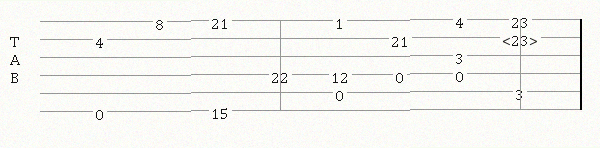0: (95, 103, 108, 117), (335, 85, 348, 99), (395, 67, 408, 81), (455, 67, 468, 81)
1: (335, 13, 348, 27)
12: (331, 67, 353, 81)
15: (211, 103, 233, 118)
21: (211, 13, 233, 27), (391, 31, 413, 45)
22: (271, 67, 293, 81)
23: (511, 13, 533, 27)
3: (455, 49, 468, 63), (515, 85, 528, 99)
4: (95, 31, 108, 45), (455, 13, 468, 27)
8: (155, 13, 168, 27)
harmonic: (502, 31, 542, 45)
